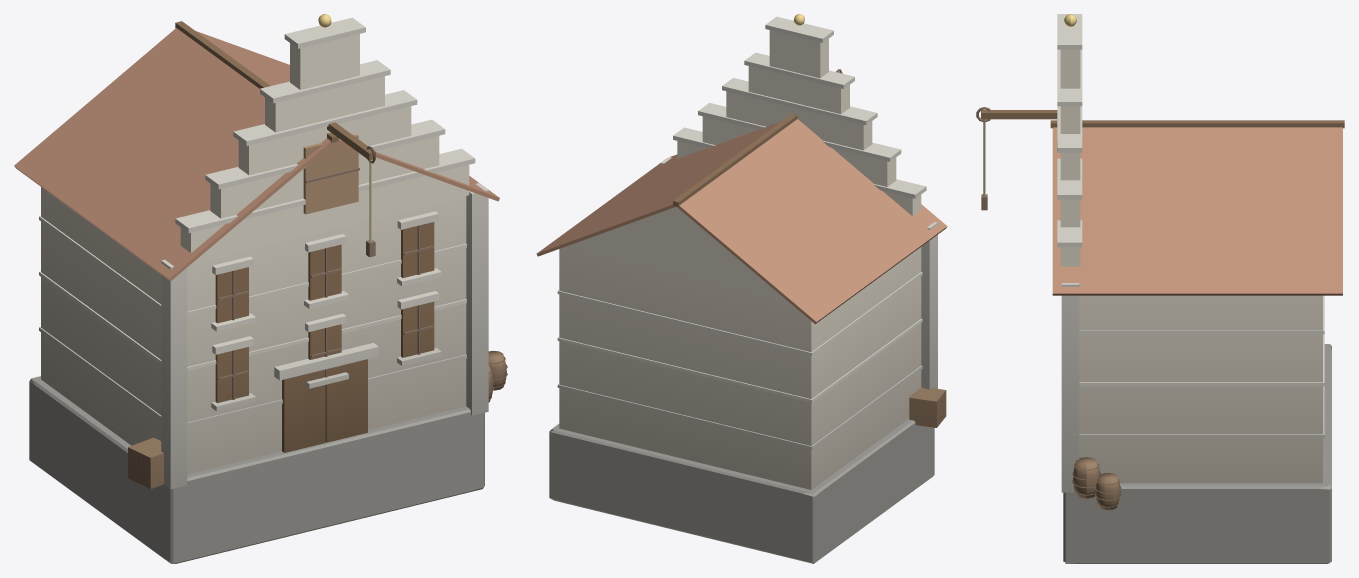
The model's file is kontor_giebel.glb.
3 views of the same model, side by side, from view 1: azimuth 30°, elevation 25°; view 2: azimuth 150°, elevation 25°; view 3: azimuth 270°, elevation 25° (orthographic). The views are drawn at different scales.
Visible parts, largest first — view 1: G_kontor_giebel; view 2: G_kontor_giebel; view 3: G_kontor_giebel.
Part boxes in pixels (x1=…): G_kontor_giebel: x1=14, y1=14, x2=507, y2=563; G_kontor_giebel: x1=536, y1=14, x2=947, y2=563; G_kontor_giebel: x1=976, y1=14, x2=1344, y2=563.
Bounding box in the file's own units: 11.51 × 14.73 × 10.28.
